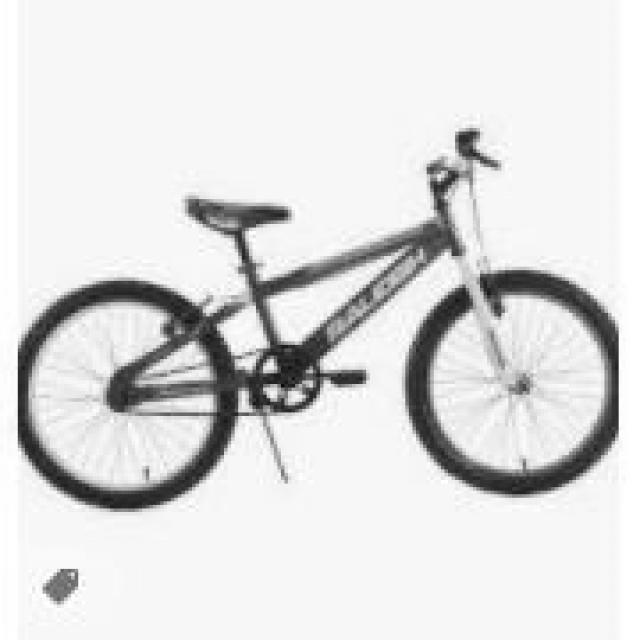bicycle: (32, 124, 626, 508)
